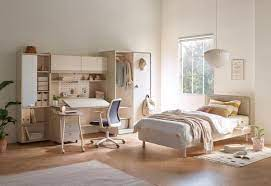Bed: (135, 93, 259, 161)
Chair: (89, 97, 129, 150)
Closet: (105, 49, 155, 118)
